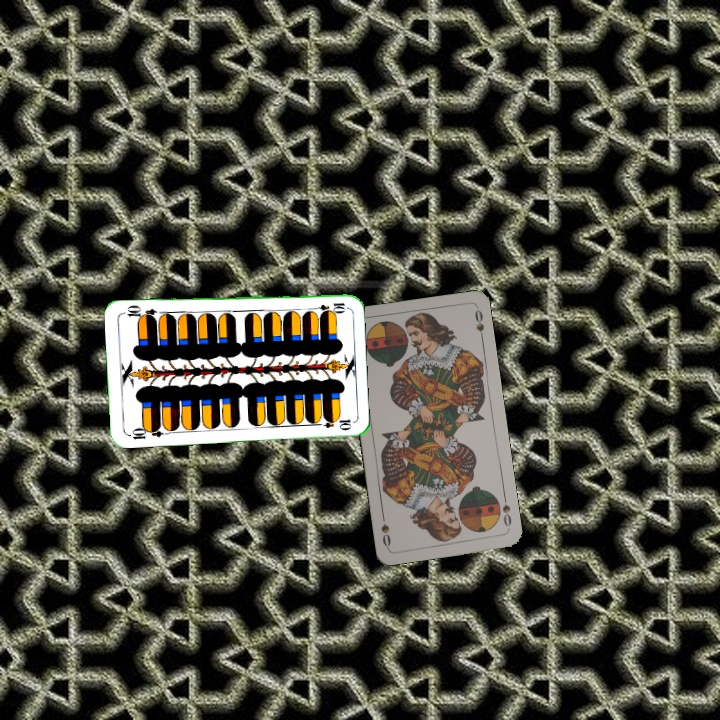E10: (124, 422, 165, 443), (307, 299, 348, 314)
SO: (498, 491, 514, 532)
